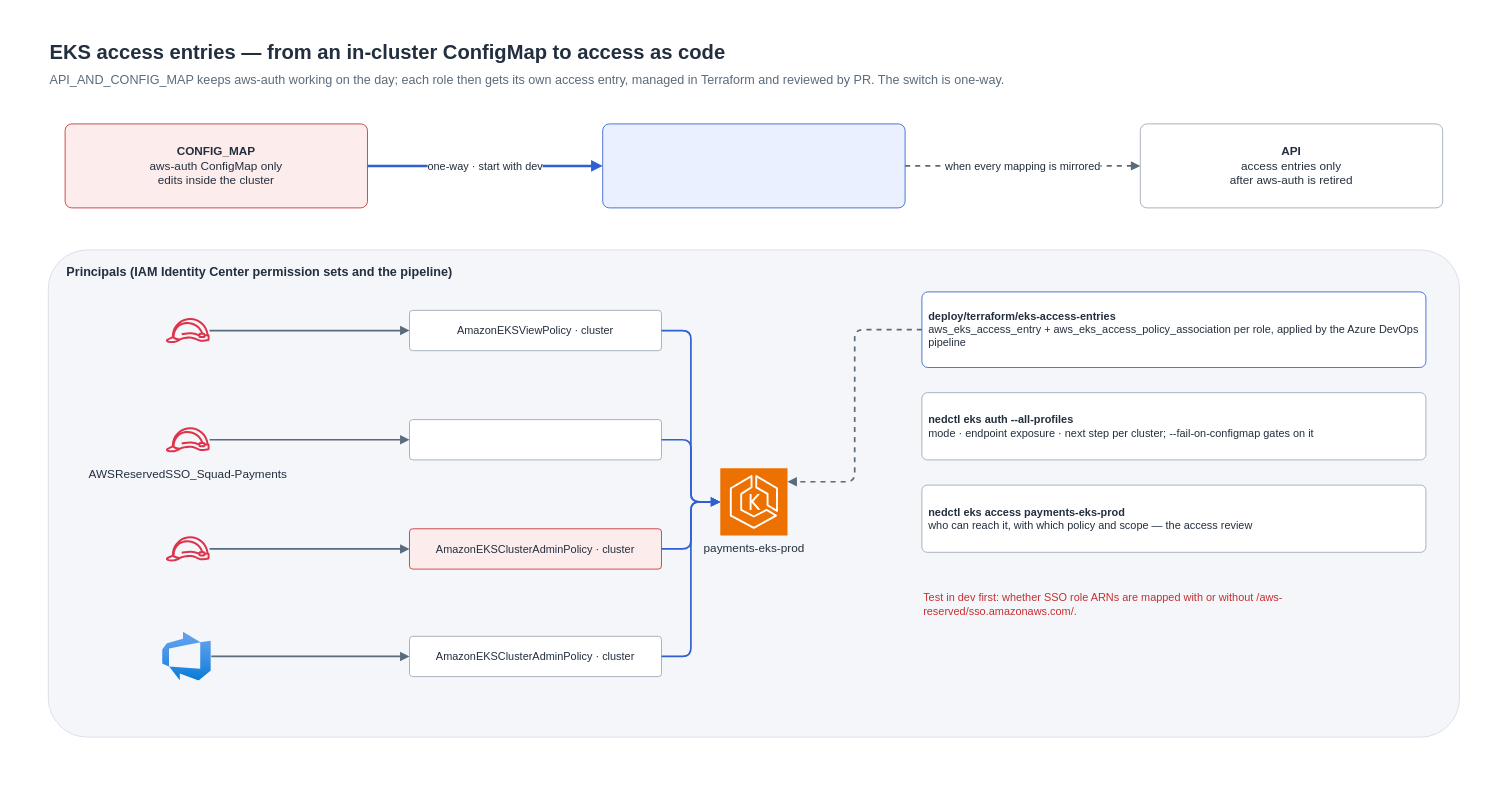
The diagram is 1507 pixels wide and 801 high, and some of its shapes have lost their labels. Here are the shapes that lost their labels. From the top down, the centre of each, then its label:
At (x=753, y=165): "API_AND_CONFIG_MAP access entries + aws-auth nobody loses access".
At (x=187, y=330): "AWSReservedSSO_Platform-ReadOnly".
At (x=535, y=439): "AmazonEKSEditPolicy · namespace payments".
At (x=187, y=548): "AWSReservedSSO_BreakGlass-Admin".
At (x=186, y=656): "devops pipeline role (Azure DevOps, OIDC trust)".
